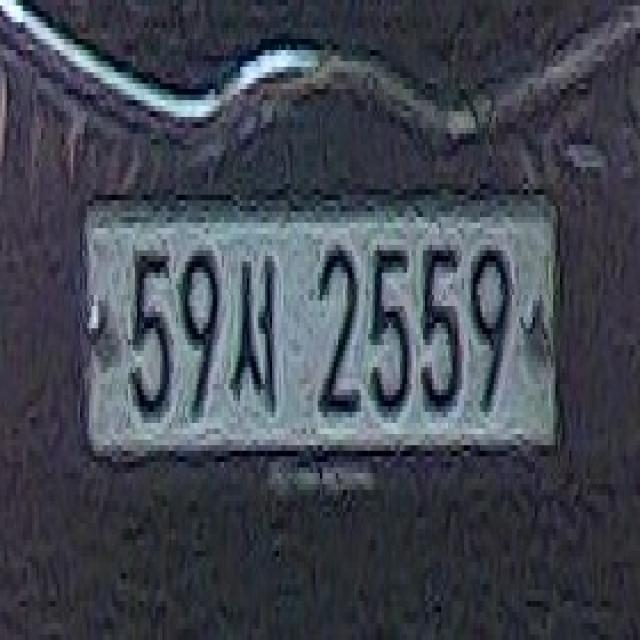2: (314, 233, 364, 418)
5: (416, 234, 464, 426), (126, 232, 172, 422), (369, 233, 413, 421)
9: (176, 231, 223, 421), (471, 235, 515, 414)
license_plate: (75, 168, 569, 473)
seo: (231, 232, 283, 420)
